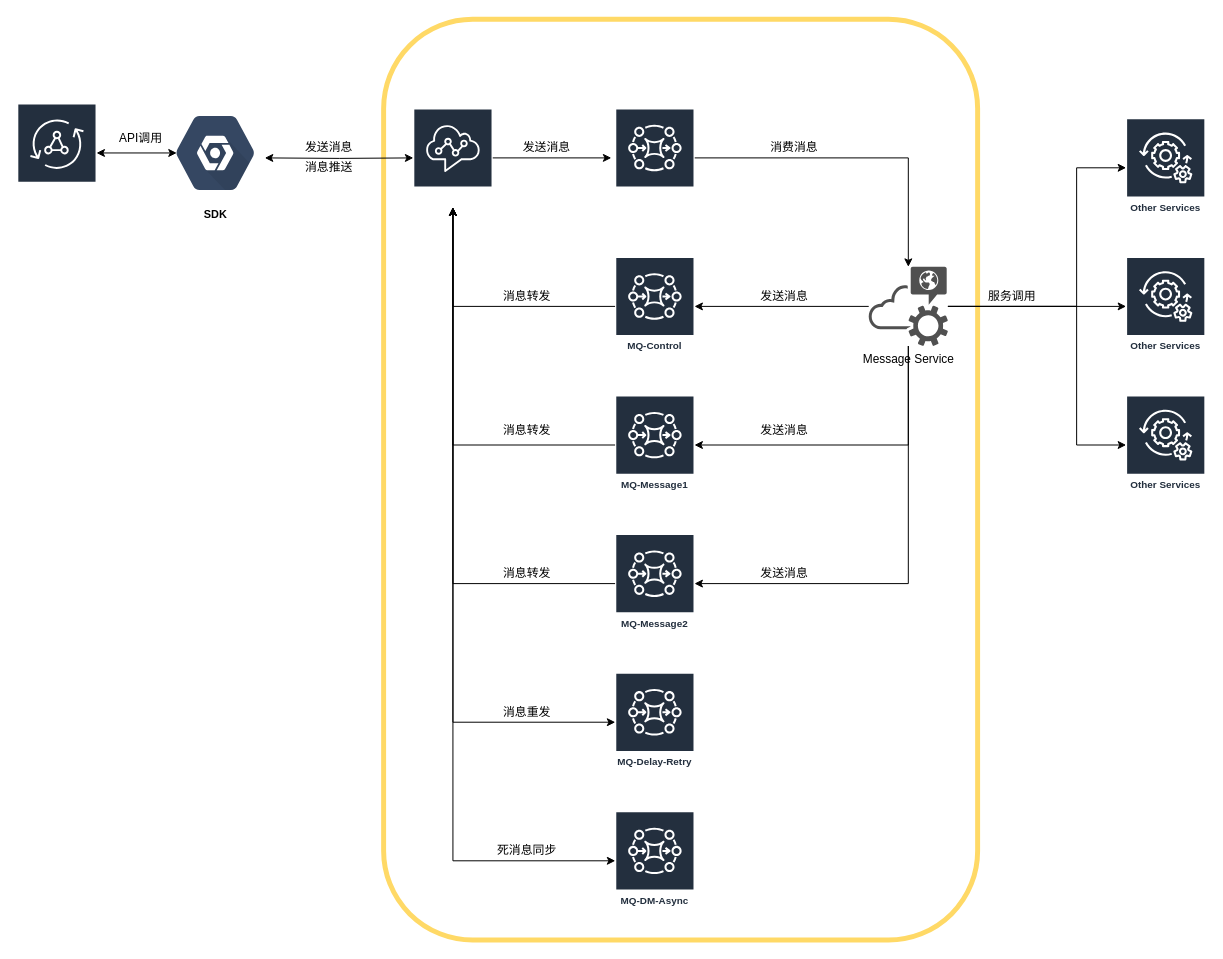
Image size: 1223x959. Some labels were removed from this diagram. Each missing label, with the centre of its shape:
Access: the point at 452,157
Client: the point at 56,152
MQ-Request: the point at 654,157
